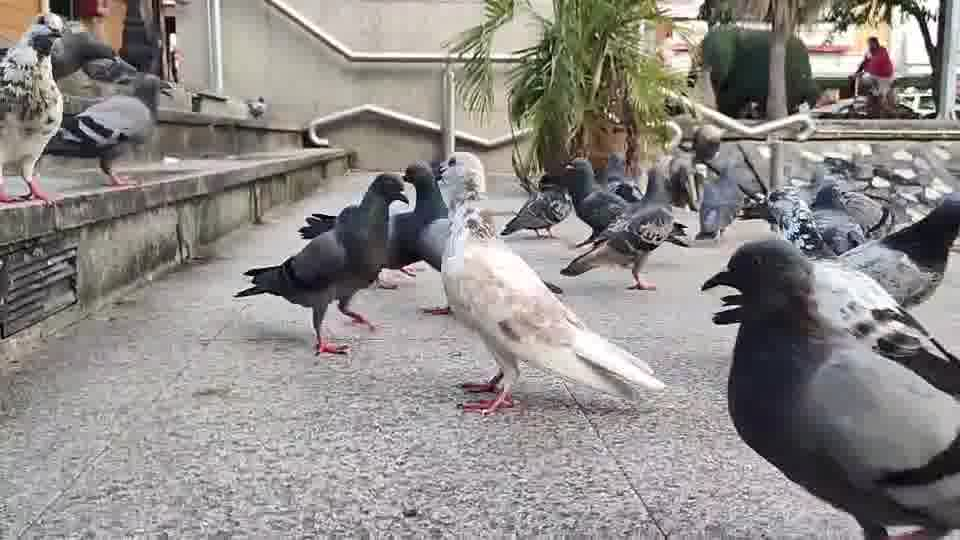Pigeon: (700, 238, 959, 538), (438, 203, 666, 417), (0, 11, 173, 205), (232, 171, 410, 356), (559, 165, 689, 290), (41, 70, 169, 186), (0, 17, 66, 207), (498, 173, 571, 239)
